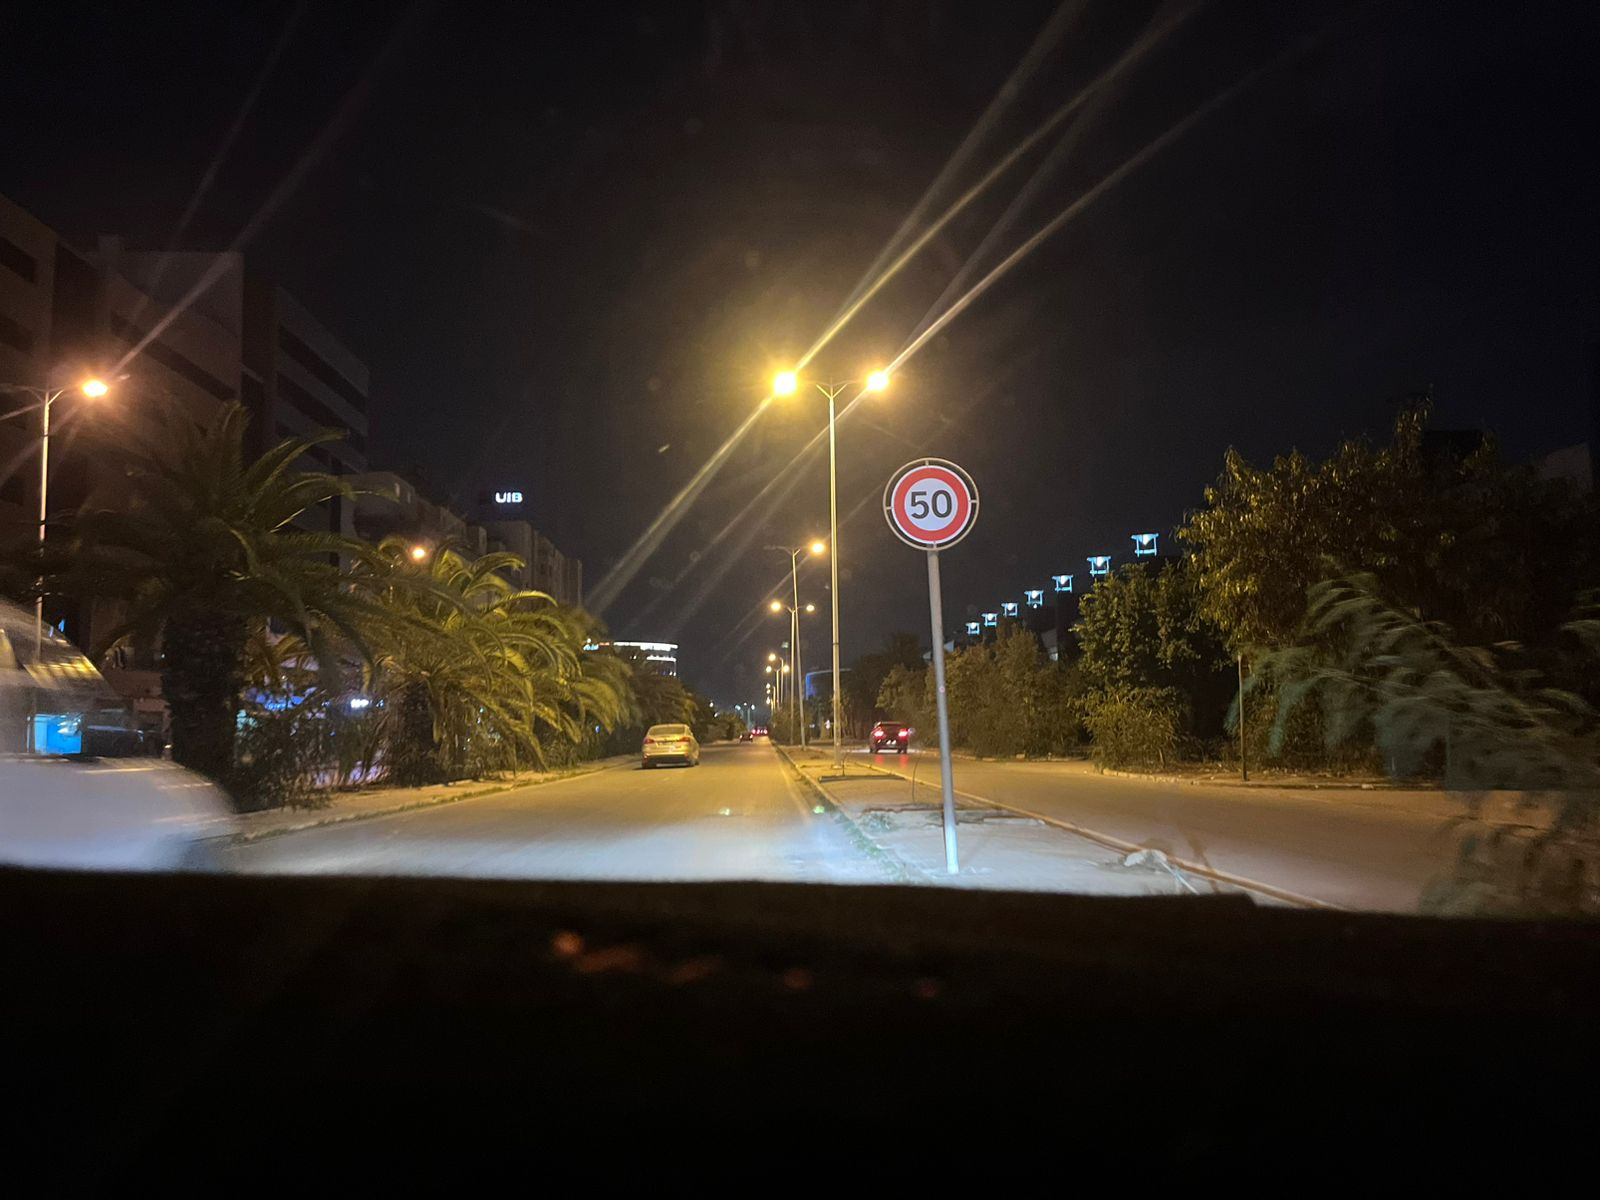SpeedLimit50: (882, 456, 980, 552)
